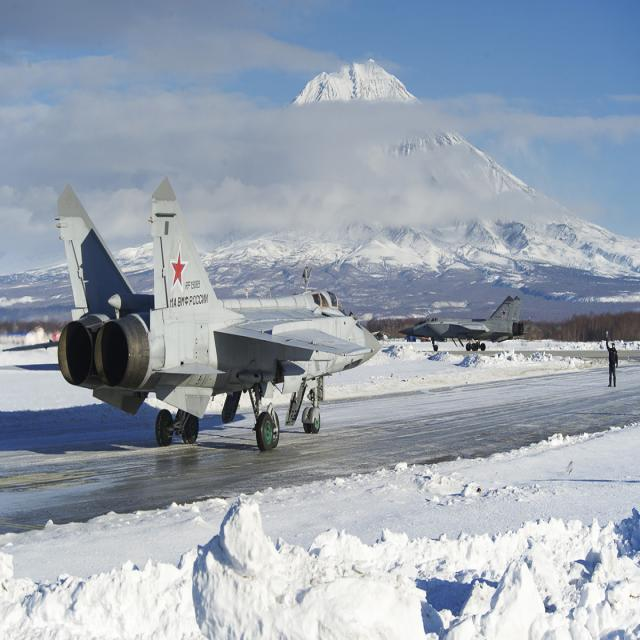MIL_Plane: (2, 174, 387, 453), (394, 295, 529, 351)
